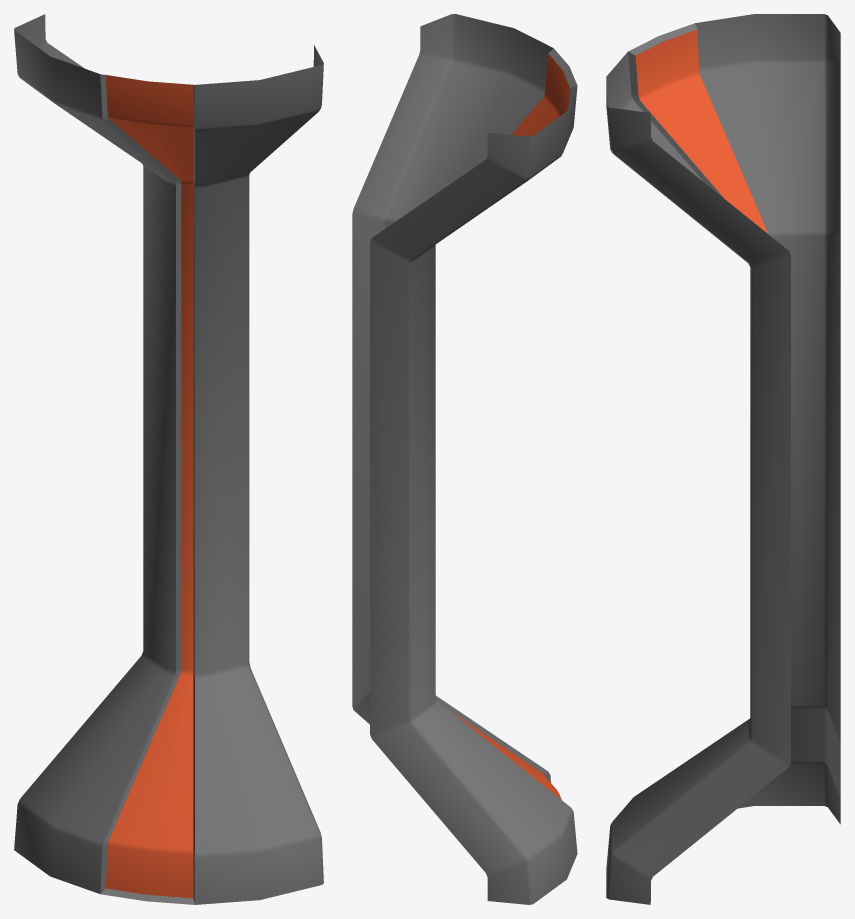
The model's file is ColumnB.FBX.
3 renders of one model, left to right at view 1: azimuth 30°, elevation 25°; view 2: azimuth 150°, elevation 25°; view 3: azimuth 270°, elevation 25°, orthographic. The views are drawn at different scales.
Parts seen in each view (by area): view 1: ColumnB; view 2: ColumnB; view 3: ColumnB.
Boxes of the visible parts, bbox=[...] form: ColumnB: bbox=[14, 14, 323, 904]; ColumnB: bbox=[352, 14, 577, 904]; ColumnB: bbox=[606, 14, 840, 904].
Size of the model in its own units: 67.03 by 250 by 67.03.
